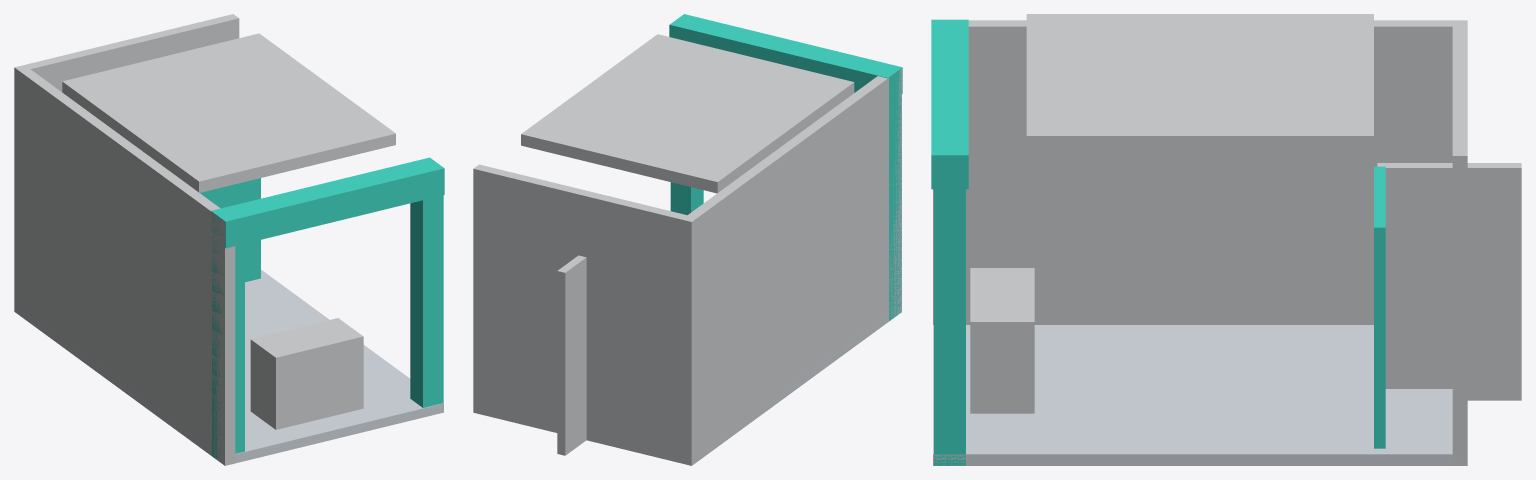
3 views of the same model, side by side, from view 1: azimuth 30°, elevation 25°; view 2: azimuth 150°, elevation 25°; view 3: azimuth 270°, elevation 25° (orthographic). The views are drawn at different scales.
Parts seen in each view (by area): view 1: Exhibition Booth Concept; view 2: Exhibition Booth Concept; view 3: Exhibition Booth Concept.
Part boxes in pixels (x1,y1,x2,y2): Exhibition Booth Concept: (14,14,444,465); Exhibition Booth Concept: (473,14,902,465); Exhibition Booth Concept: (931,14,1521,465).
Size of the model in its own units: 3 by 3.34 by 5.52.
